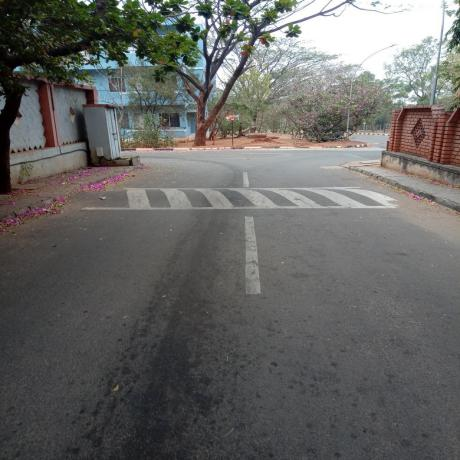Speed Bump: (64, 187, 402, 208)
